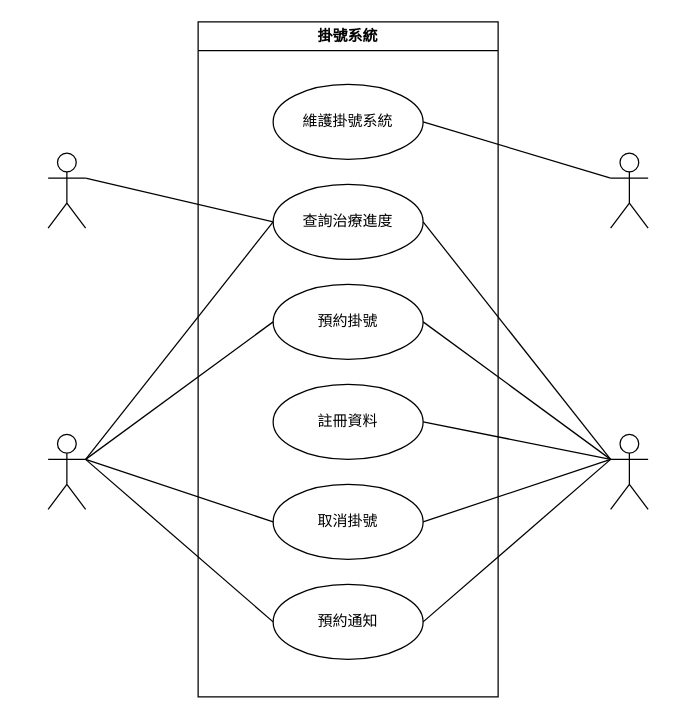
The diagram is 688 pixels wide and 719 high, and some of its shapes have lost their labels. The shapes that lost their labels are listed below. From the top down, each one's box as (x1, y1, x2, y2) in pixels, then its label:
(47, 152, 86, 228): 醫生
(609, 152, 648, 228): 系統管理員
(47, 433, 86, 509): 醫院管理人員
(609, 433, 648, 509): 患者
